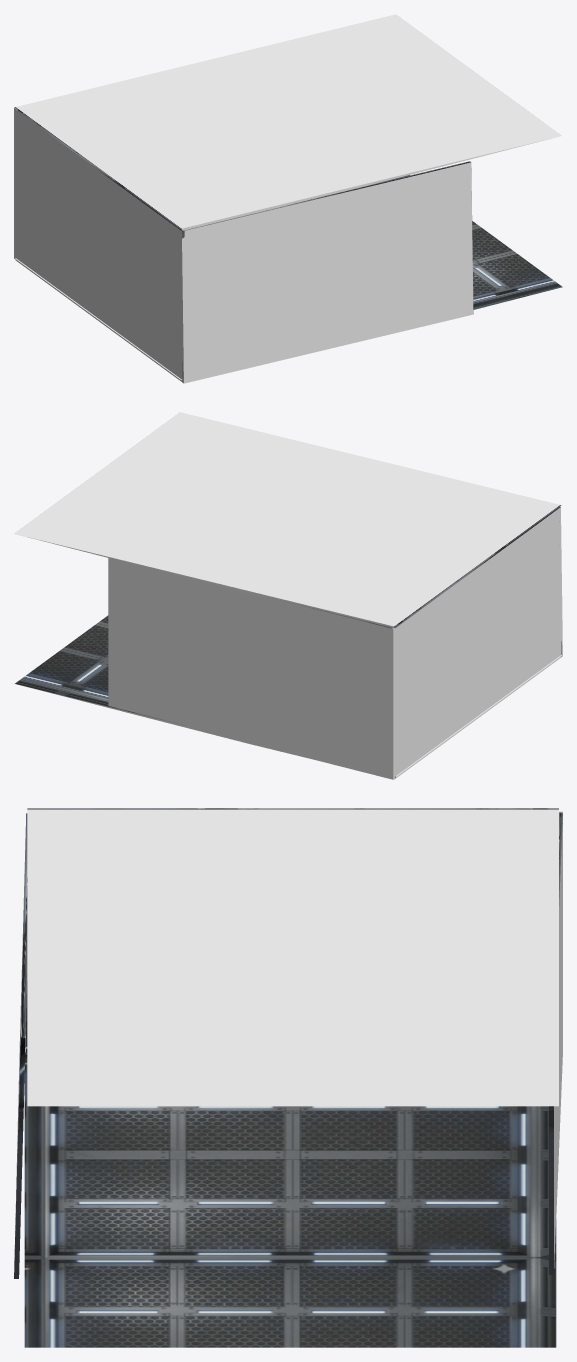
File: room.obj
The picture shows the model from 3 angles, top to bottom: view 1: azimuth 30°, elevation 25°; view 2: azimuth 150°, elevation 25°; view 3: azimuth 270°, elevation 25°; orthographic projection. The views are drawn at different scales.
Parts seen in each view (by area): view 1: Cube.003; view 2: Cube.003; view 3: Cube.003.
Part boxes in pixels (bbox=[...]): Cube.003: bbox=[14, 14, 562, 383]; Cube.003: bbox=[14, 412, 562, 779]; Cube.003: bbox=[14, 808, 562, 1347].
Bounding box in the file's own units: 31.03 × 11.92 × 24.15.
1 material, 1 textured.
